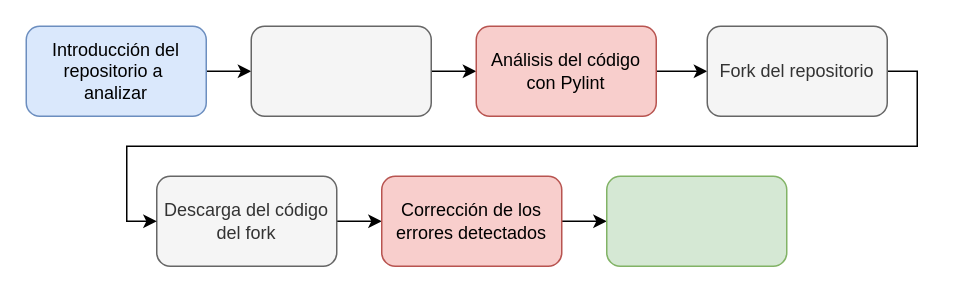
Image size: 956x293. Some labels were removed from this diagram. The centre of each missing label's shape, as x and y in pixels:
"Creación de la Pull-Request/ merge-Request" goes at [696,220].
"Descarga del código de los repositorios" goes at [340,70].
